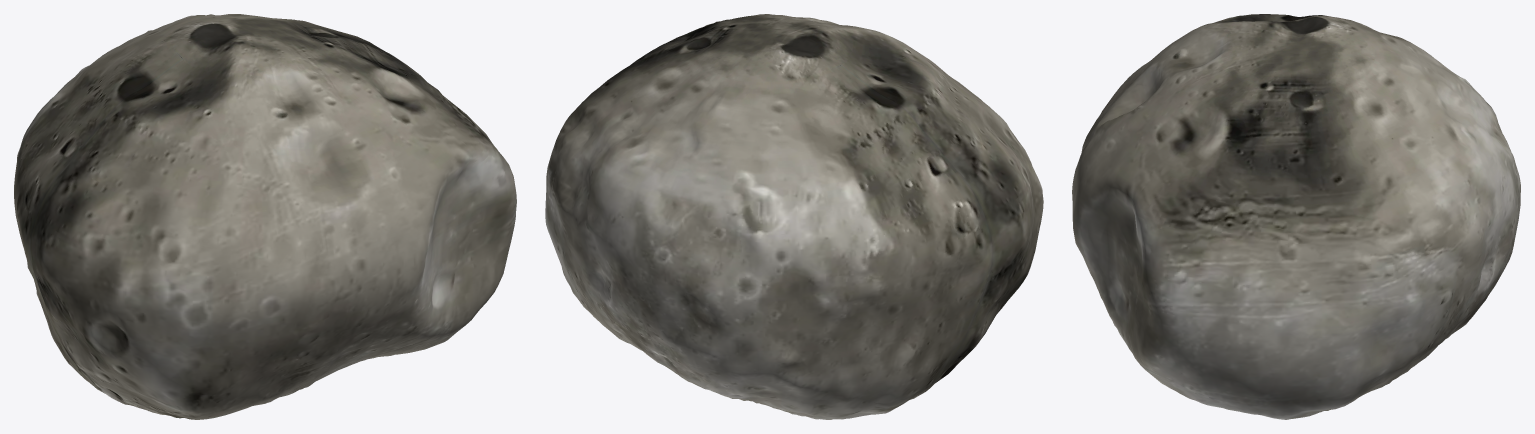
The model's file is phobos.glb.
3 views of the same model, side by side, from view 1: azimuth 30°, elevation 25°; view 2: azimuth 150°, elevation 25°; view 3: azimuth 270°, elevation 25° (orthographic). The views are drawn at different scales.
Visible parts, largest first — view 1: phobos; view 2: phobos; view 3: phobos.
Part boxes in pixels (left/top/right/bottom): phobos: left=14, top=14, right=516, bottom=419; phobos: left=545, top=14, right=1043, bottom=419; phobos: left=1072, top=14, right=1520, bottom=419.
Bounding box in the file's own units: 27.04 × 20.52 × 24.37.
1 material, 1 textured.
